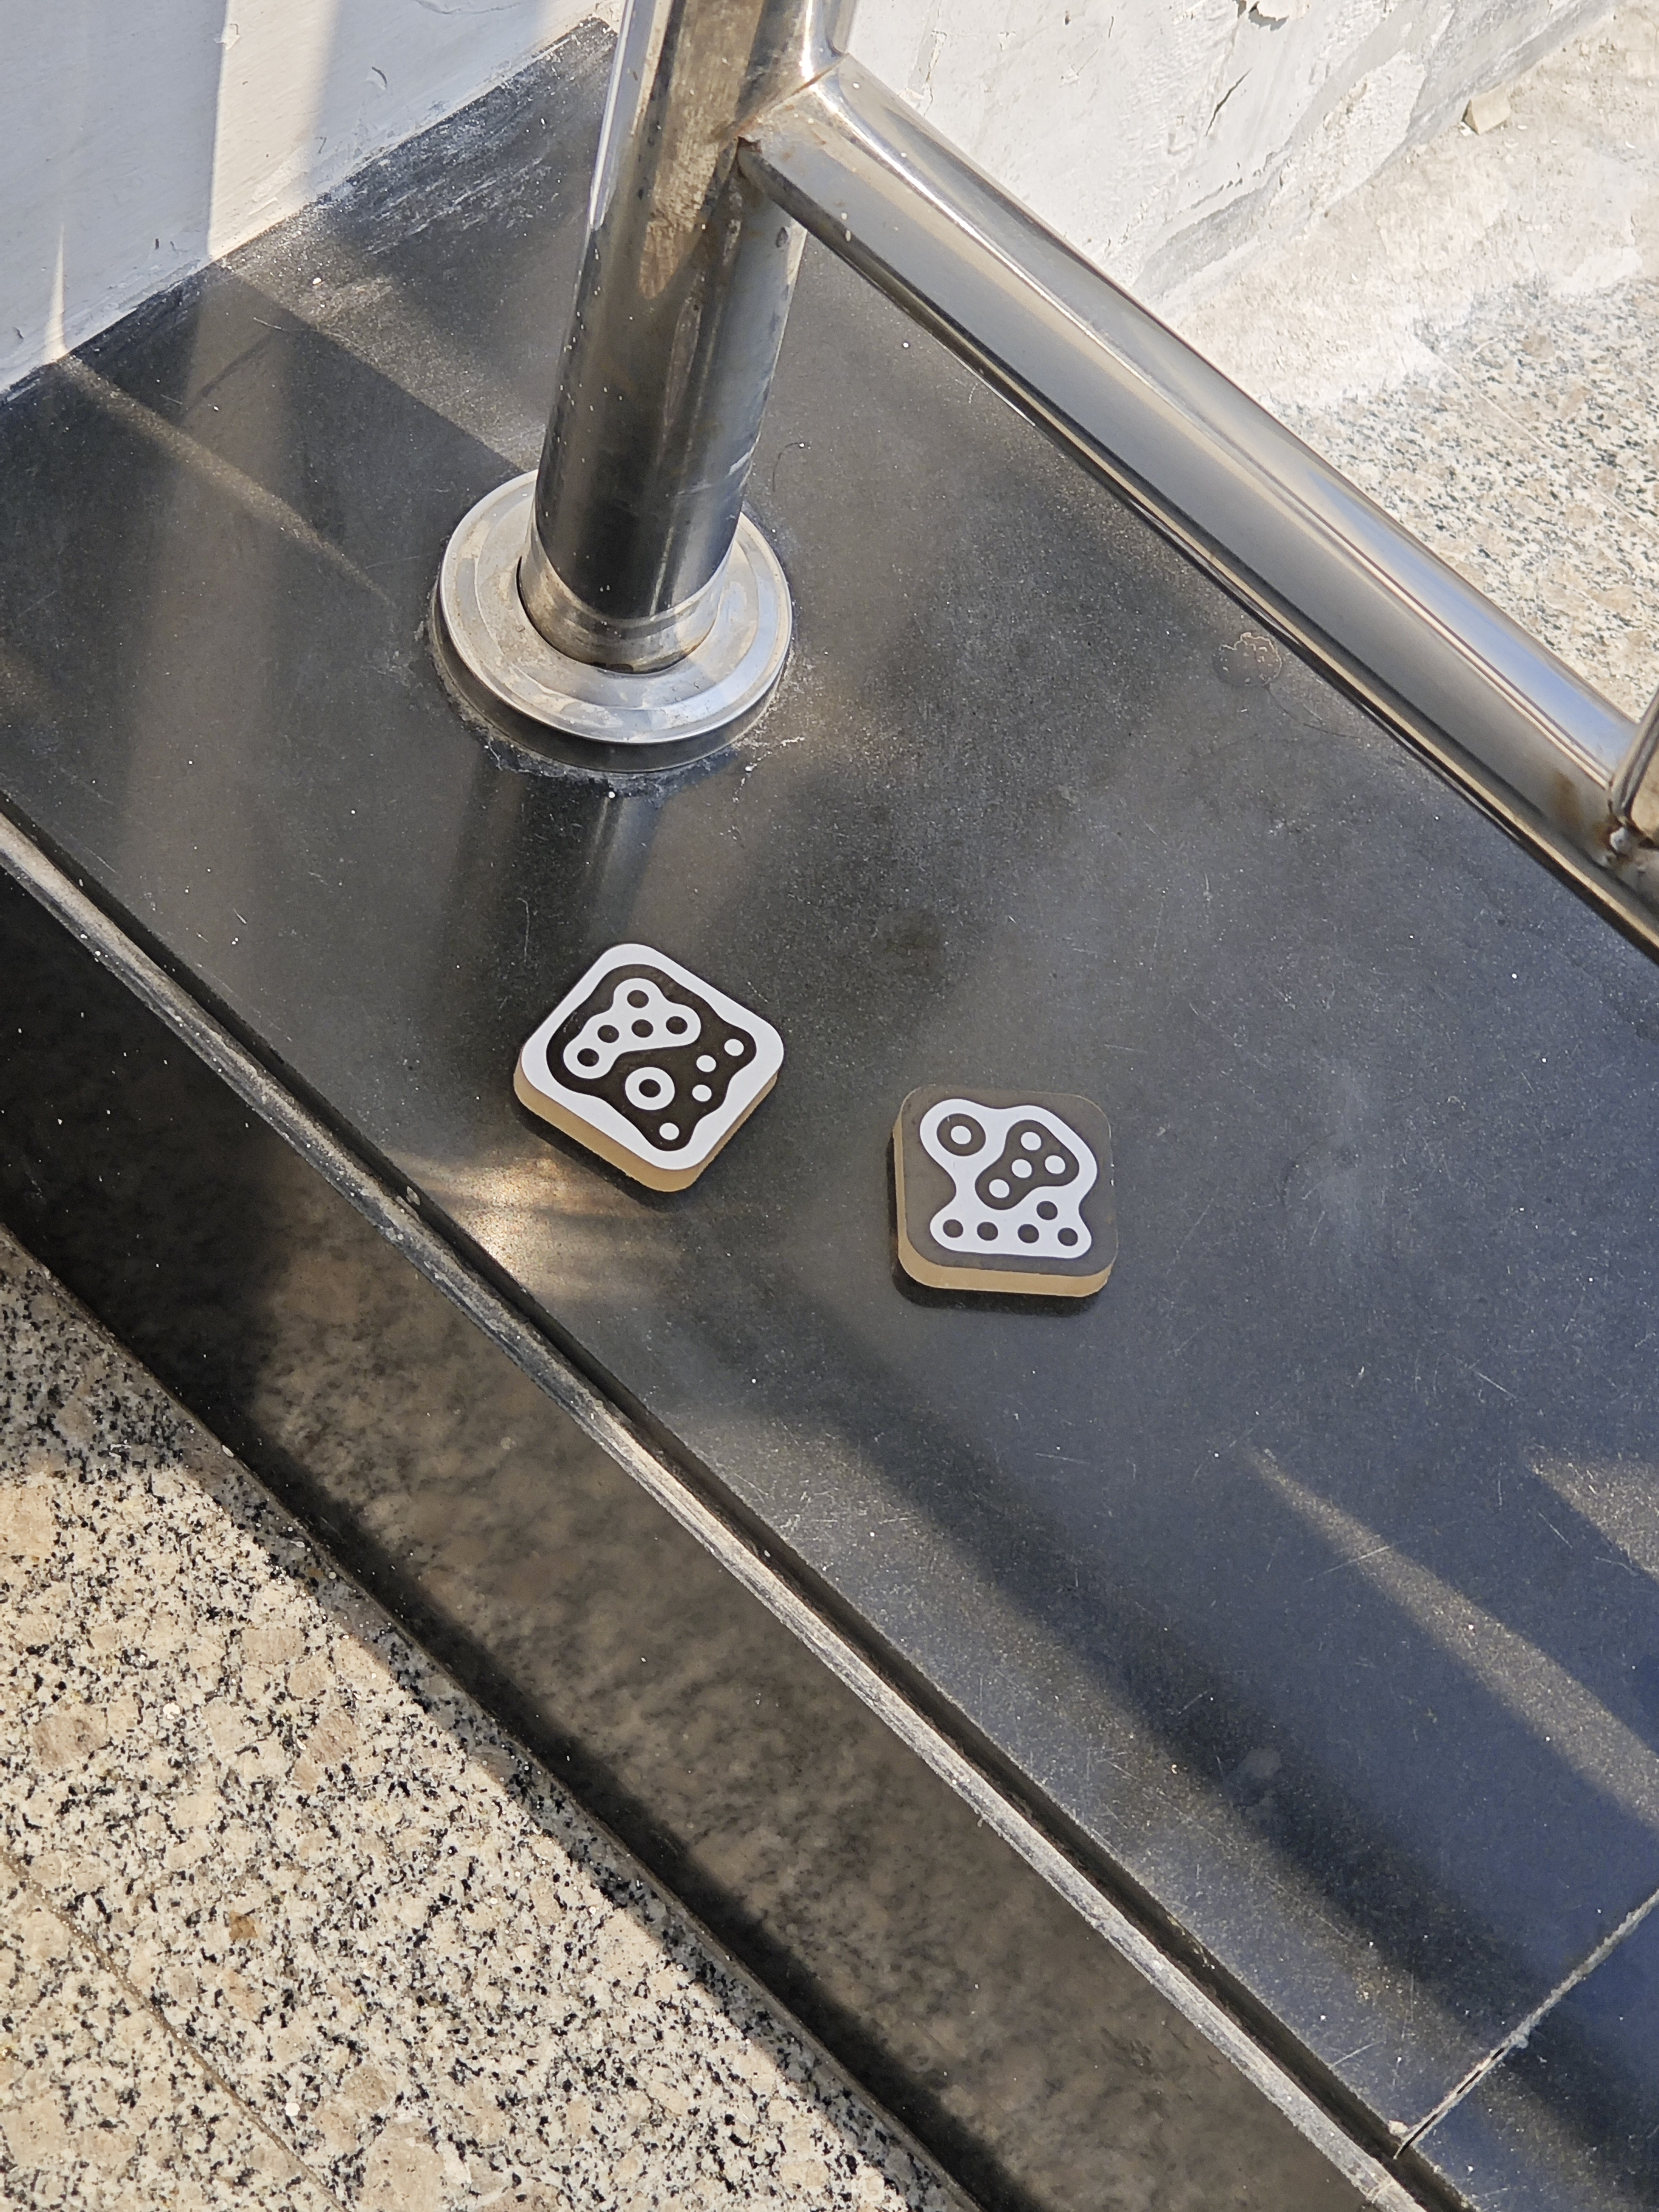mark1: (551, 965, 751, 1157)
mark2: (918, 1096, 1096, 1263)
